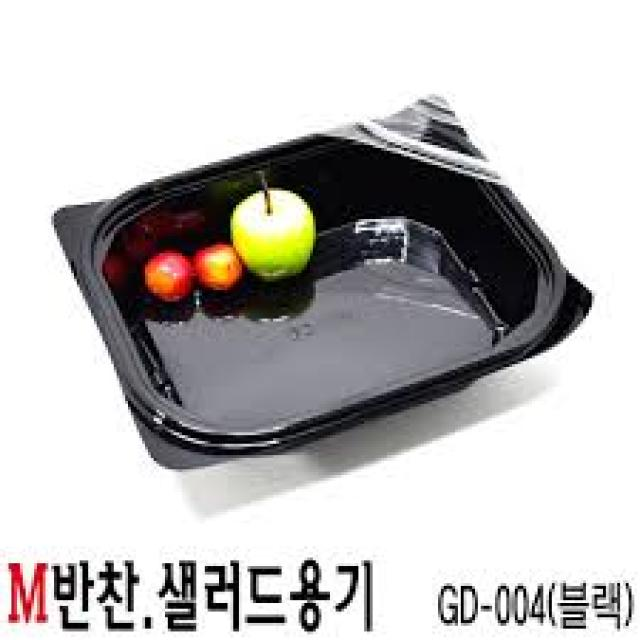disposable: (24, 83, 626, 480)
